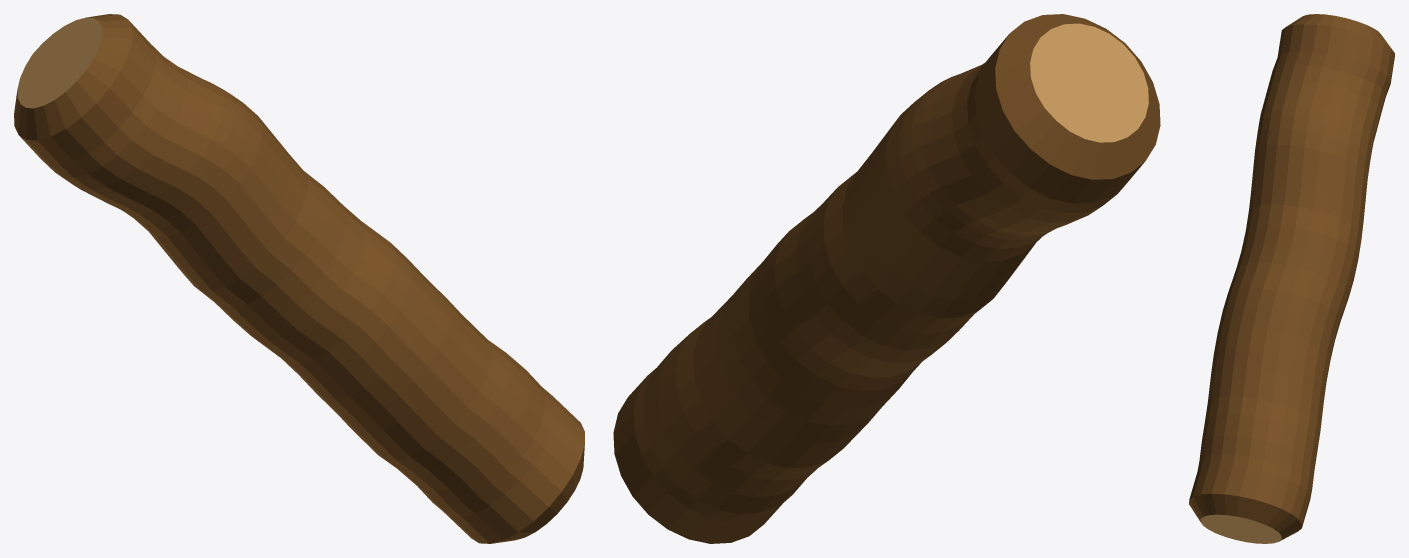
The model's file is wood-for-campfire.fbx.
3 renders of one model, left to right at view 1: azimuth 30°, elevation 25°; view 2: azimuth 150°, elevation 25°; view 3: azimuth 270°, elevation 25°, orthographic. The views are drawn at different scales.
Visible parts, largest first — view 1: wood-for-campfire; view 2: wood-for-campfire; view 3: wood-for-campfire.
Boxes of the visible parts, bbox=[...] form: wood-for-campfire: bbox=[14, 14, 584, 543]; wood-for-campfire: bbox=[613, 14, 1160, 543]; wood-for-campfire: bbox=[1189, 14, 1394, 543].
Bounding box in the file's own units: 95.69 × 102 × 47.2.
